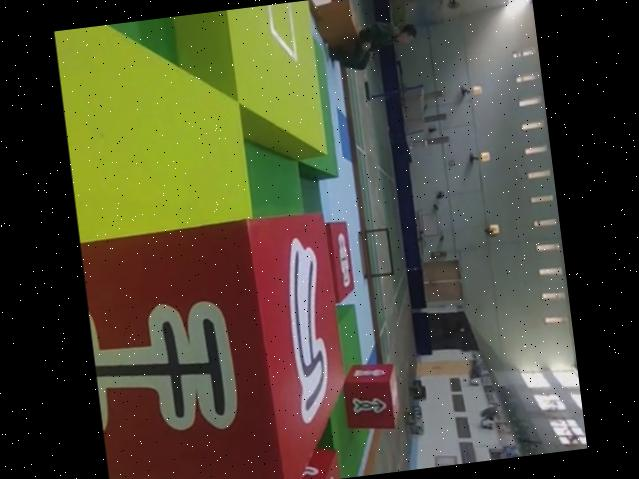R2 Fake: (78, 205, 358, 479)
R2 Real: (336, 358, 406, 437), (238, 439, 343, 479)
